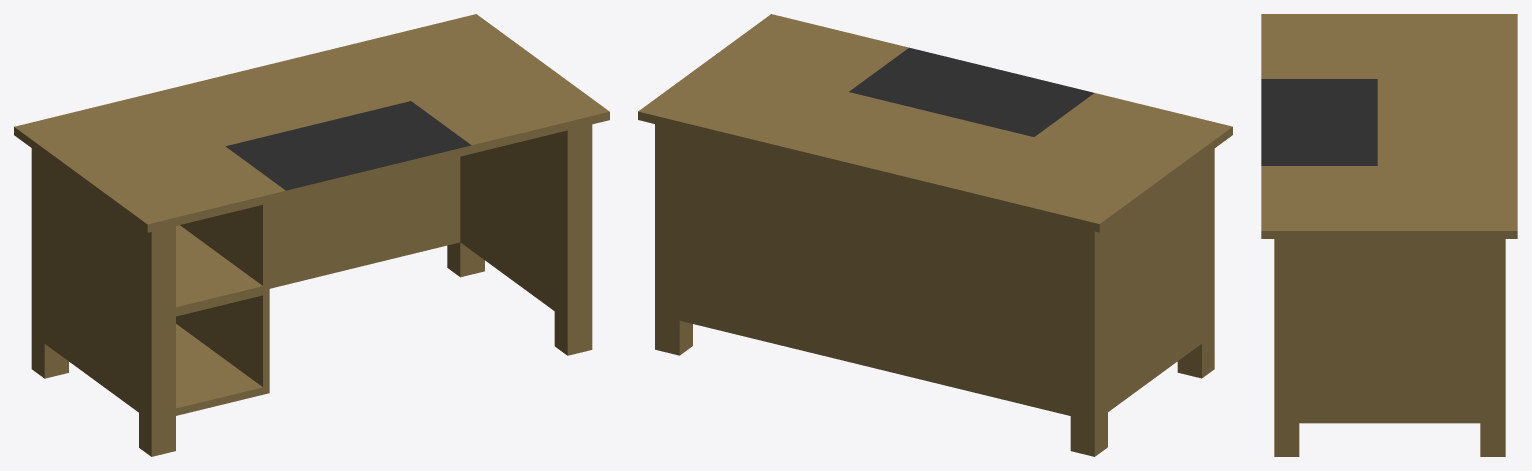
Rendered from Principals Desk.fbx.
3 views of the same model, side by side, from view 1: azimuth 30°, elevation 25°; view 2: azimuth 150°, elevation 25°; view 3: azimuth 270°, elevation 25° (orthographic). The views are drawn at different scales.
Parts seen in each view (by area): view 1: Principal Desk; view 2: Principal Desk; view 3: Principal Desk.
Part boxes in pixels (x1=…): Principal Desk: x1=14, y1=14, x2=609, y2=456; Principal Desk: x1=638, y1=14, x2=1232, y2=456; Principal Desk: x1=1261, y1=14, x2=1517, y2=456.
Bounding box in the file's own units: 200 × 99.42 × 100.
